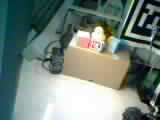duck: (90, 24, 101, 43)
